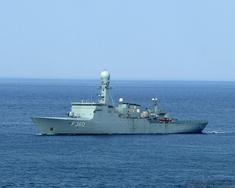warship: (31, 71, 211, 137)
